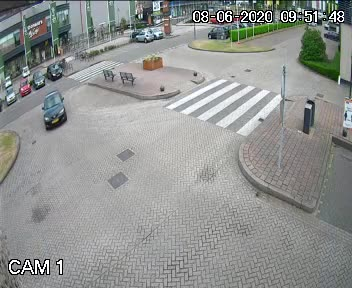car: (39, 84, 74, 132), (204, 23, 231, 42), (129, 26, 156, 42)
